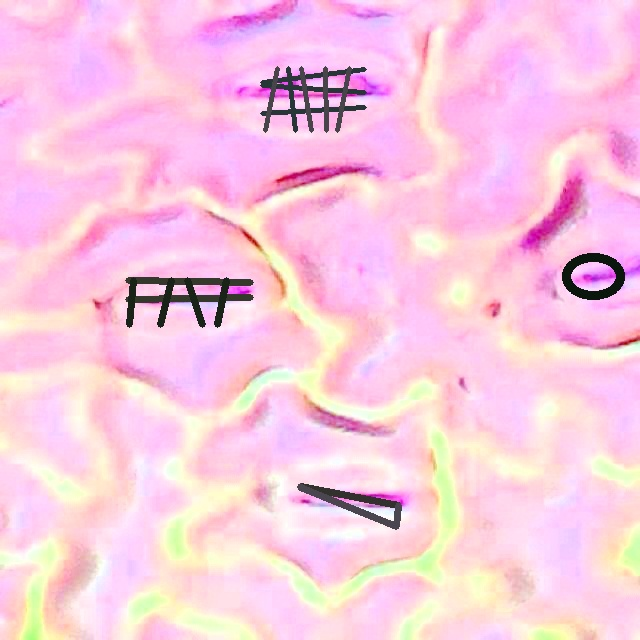open: (260, 67, 365, 132), (126, 277, 252, 326), (298, 483, 400, 528), (560, 252, 626, 300)
